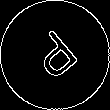P_SE: (25, 24, 85, 86)
